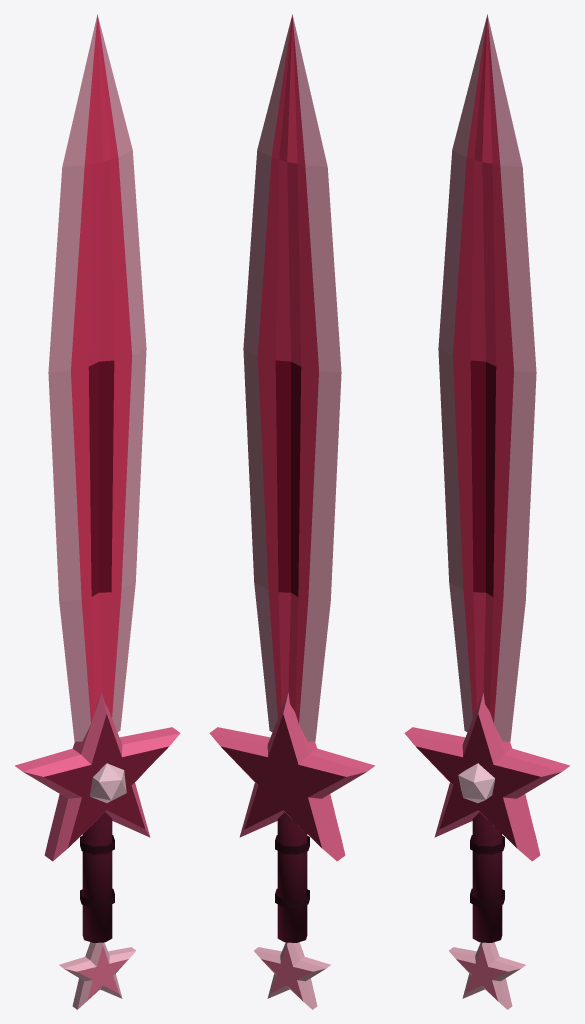
The model's file is star_wrath.glb.
3 renders of one model, left to right at view 1: azimuth 30°, elevation 25°; view 2: azimuth 150°, elevation 25°; view 3: azimuth 330°, elevation 25°, orthographic.
Parts seen in each view (by area): view 1: star_wrath_v0; view 2: star_wrath_v0; view 3: star_wrath_v0.
Part boxes in pixels (x1,y1,x2,y2): star_wrath_v0: (15, 14, 180, 1009); star_wrath_v0: (209, 14, 374, 1009); star_wrath_v0: (404, 14, 569, 1009).
Bounding box in the file's own units: 0.2473 × 1.48 × 0.0765.
